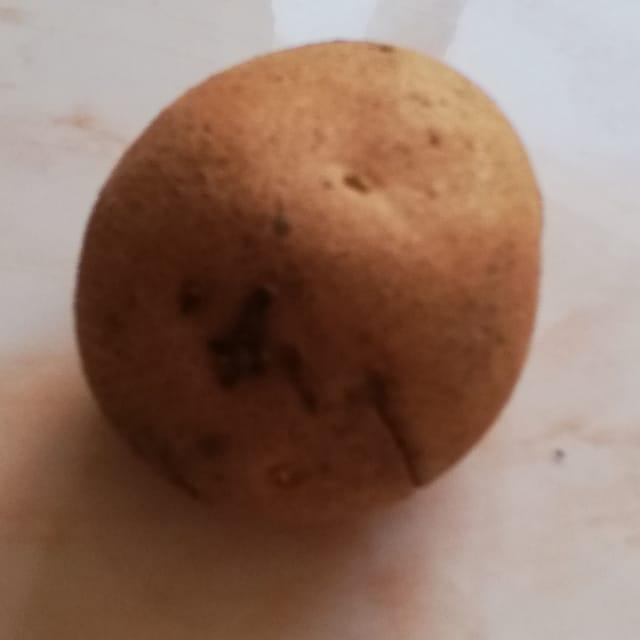potato: (62, 3, 565, 543)
